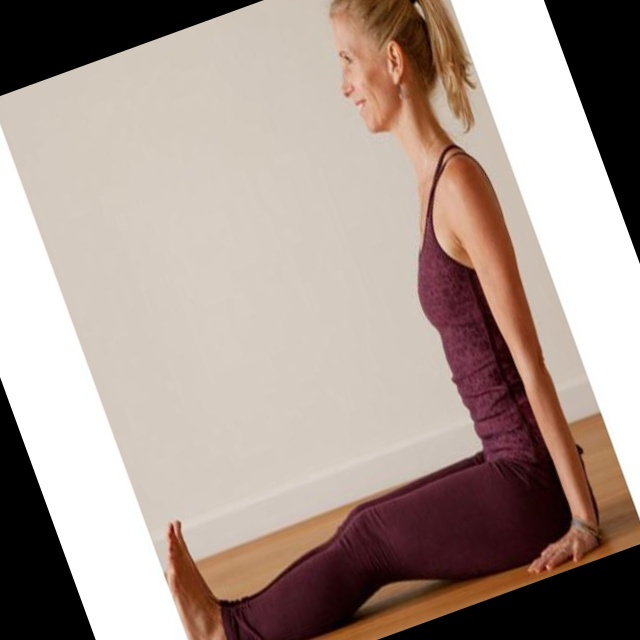Staff_Pose: (165, 4, 601, 635)
